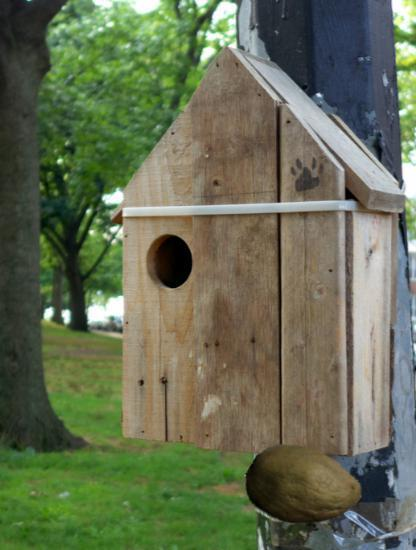Papaya: (246, 433, 358, 545)
